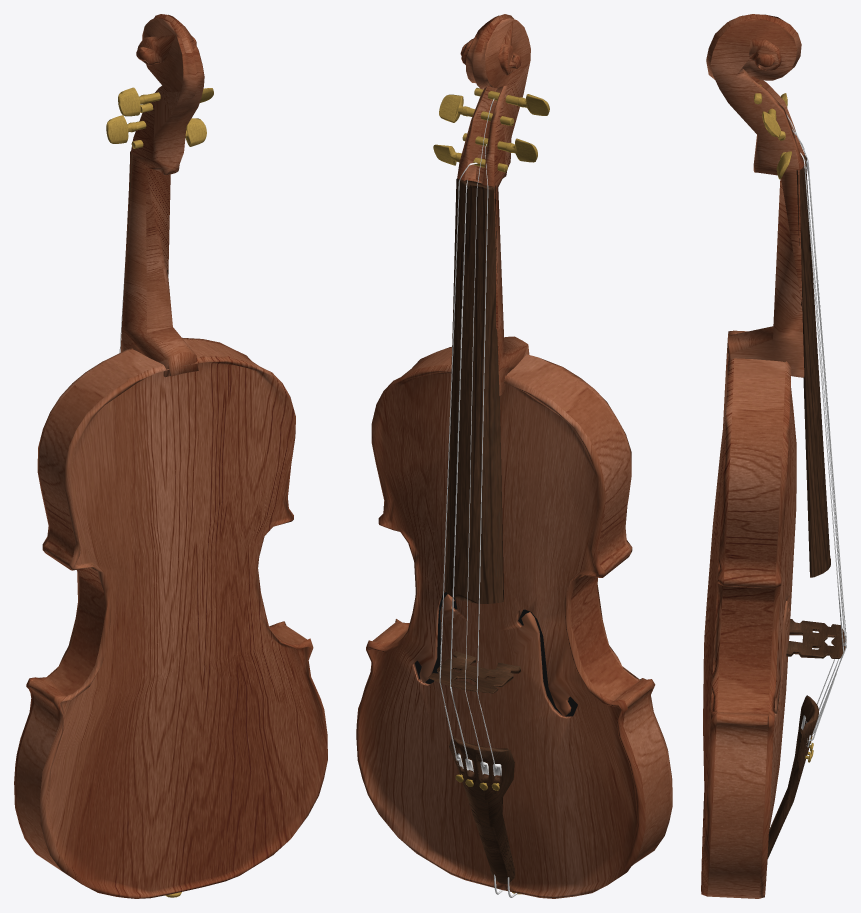
The model's file is myViolin7110vertsSmooth.fbx.
3 views of the same model, side by side, from view 1: azimuth 30°, elevation 25°; view 2: azimuth 150°, elevation 25°; view 3: azimuth 270°, elevation 25° (orthographic).
Visible parts, largest first — view 1: polySurface7; view 2: polySurface7; view 3: polySurface7.
Part boxes in pixels (box(x1,y1,x2,y2)): polySurface7: box(14, 14, 327, 898); polySurface7: box(356, 14, 672, 898); polySurface7: box(701, 14, 846, 898).
Size of the model in its own units: 1.38 by 3.98 by 0.6007.
1 material, 1 textured.
